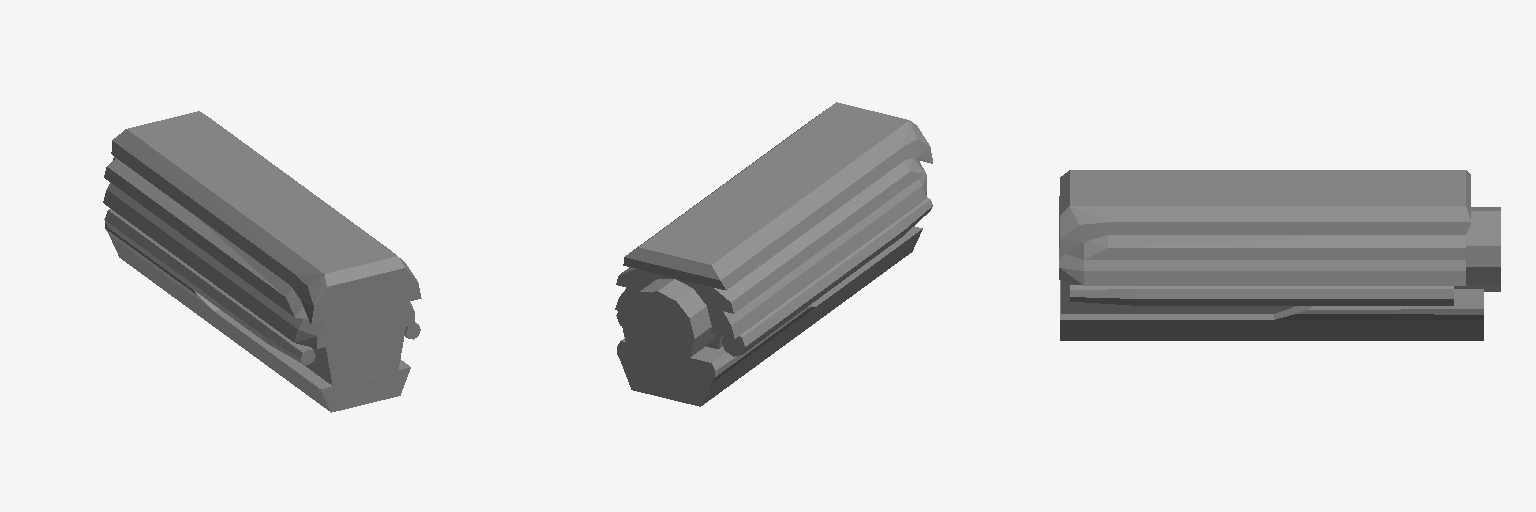
The model's file is barrel2.obj.
3 views of the same model, side by side, from view 1: azimuth 30°, elevation 25°; view 2: azimuth 150°, elevation 25°; view 3: azimuth 270°, elevation 25° (orthographic).
Visible parts, largest first — view 1: barrel2; view 2: barrel2; view 3: barrel2.
Boxes of the visible parts, x1=… form: barrel2: x1=103, y1=111, x2=421, y2=412; barrel2: x1=615, y1=102, x2=932, y2=406; barrel2: x1=1059, y1=170, x2=1500, y2=340.
Size of the model in its own units: 5.43 by 5.47 by 16.09.